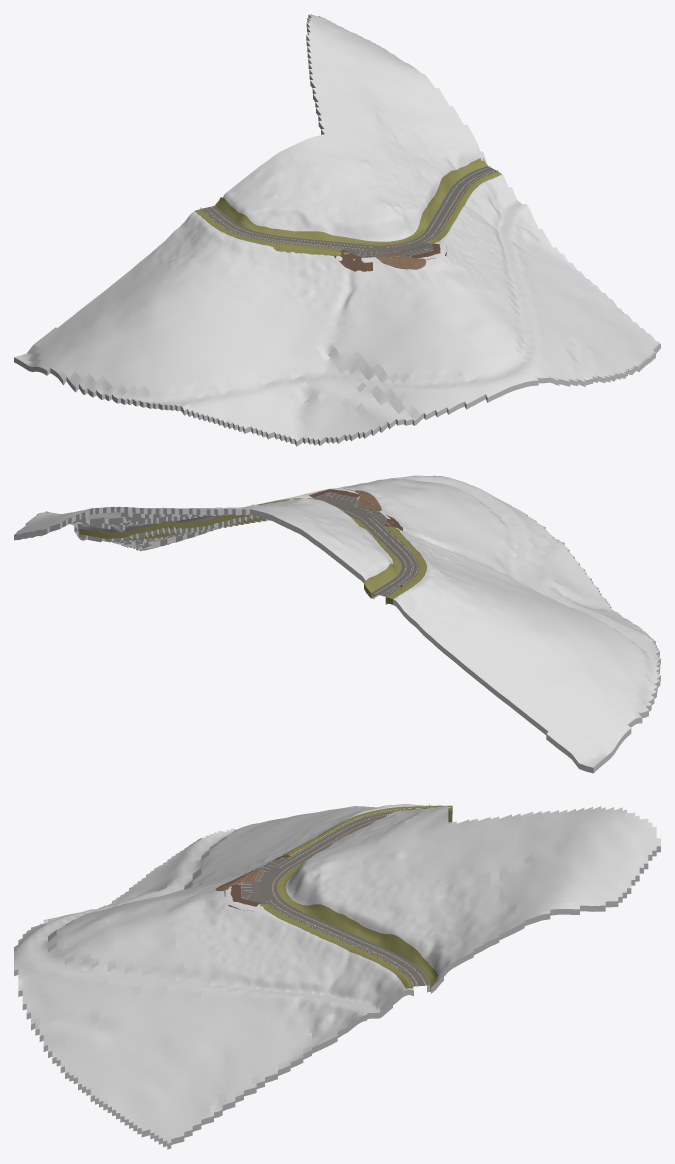
The model's file is conz_4.glb.
3 renders of one model, top to bottom at view 1: azimuth 30°, elevation 25°; view 2: azimuth 150°, elevation 25°; view 3: azimuth 270°, elevation 25°, orthographic. The views are drawn at different scales.
Parts seen in each view (by area): view 1: terrain4, road4, verge4L, verge4R; view 2: terrain4, verge4L, road4, verge4R; view 3: terrain4, road4, verge4L, verge4R.
Boxes of the visible parts, <box> form: terrain4: <box>14,14,660,446</box>; road4: <box>202,166,497,251</box>; verge4L: <box>215,158,487,244</box>; verge4R: <box>195,171,501,257</box>; terrain4: <box>14,475,660,773</box>; verge4L: <box>79,514,401,598</box>; road4: <box>326,502,418,596</box>; verge4R: <box>257,498,426,604</box>; terrain4: <box>14,804,660,1149</box>; road4: <box>260,808,452,986</box>; verge4L: <box>278,811,452,990</box>; verge4R: <box>259,805,452,988</box>.
Size of the model in its own units: 326 by 132 by 304.
